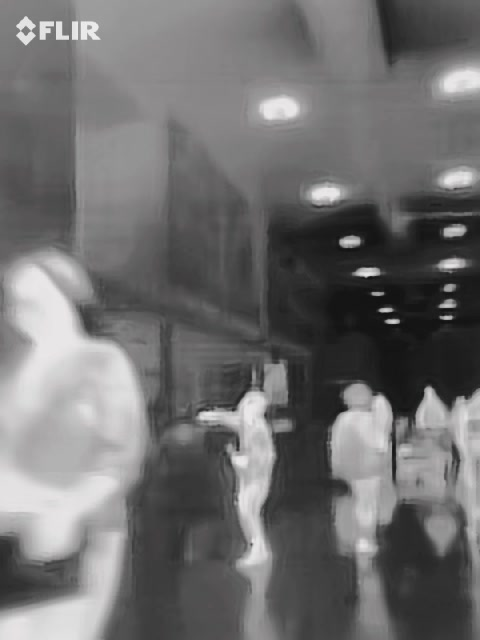head: (3, 250, 88, 344)
